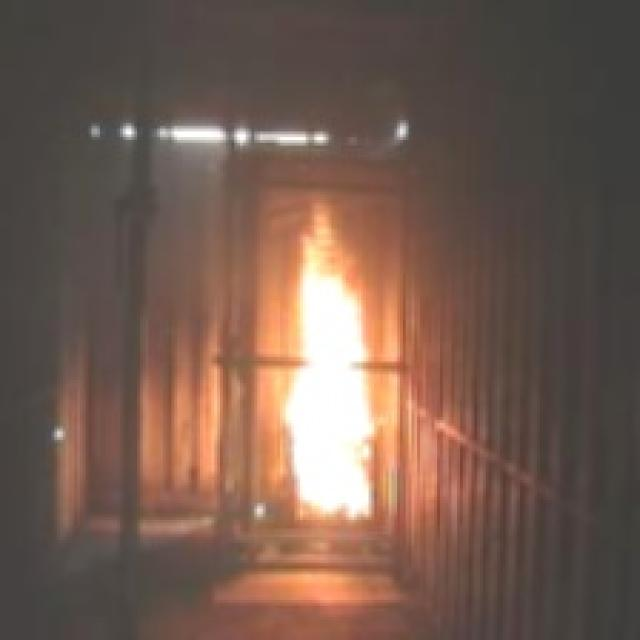fire: (277, 198, 403, 513)
